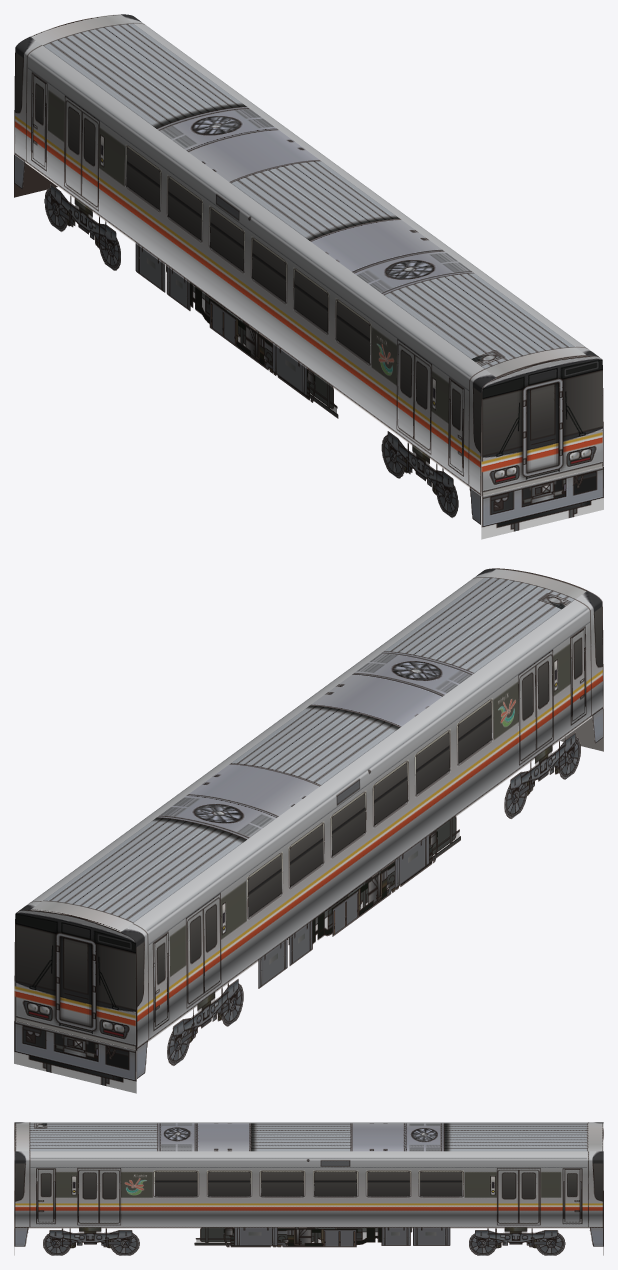
Rendered from car1.glb.
The picture shows the model from 3 angles, top to bottom: view 1: azimuth 30°, elevation 25°; view 2: azimuth 150°, elevation 25°; view 3: azimuth 270°, elevation 25°; orthographic projection. The views are drawn at different scales.
Parts seen in each view (by area): view 1: jr-west-kiha122-car1; view 2: jr-west-kiha122-car1; view 3: jr-west-kiha122-car1.
Boxes of the visible parts, x1,y1,x2,y2 form: jr-west-kiha122-car1: (14,14,603,539); jr-west-kiha122-car1: (14,568,603,1093); jr-west-kiha122-car1: (14,1122,603,1255).
Bounding box in the file's own units: 2.9 × 3.65 × 19.16.
8 materials, 7 textured.
